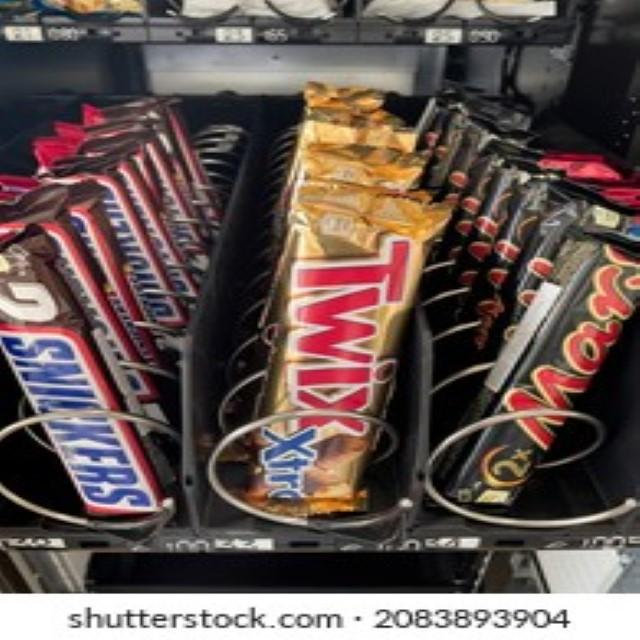mars_chocolate: (500, 227, 640, 510)
snickers_chocolate: (10, 222, 140, 528)
